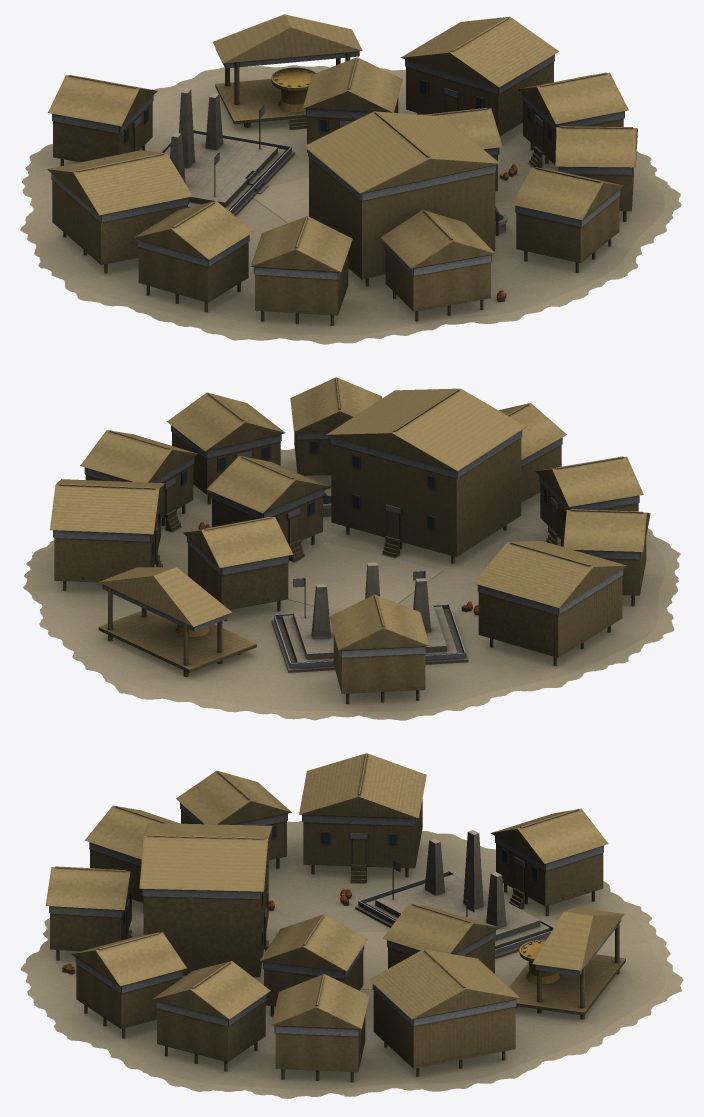
Rendered from bronze-town-medium-b-monsoon.glb.
The picture shows the model from 3 angles, top to bottom: view 1: azimuth 30°, elevation 25°; view 2: azimuth 150°, elevation 25°; view 3: azimuth 270°, elevation 25°; orthographic projection.
Visible parts, largest first — view 1: LOD0; view 2: LOD0; view 3: LOD0.
Part boxes in pixels (<box>): LOD0: <box>20,14,681,344</box>; LOD0: <box>23,377,680,720</box>; LOD0: <box>20,753,683,1098</box>.
Size of what is drawn, in the model's own units: 5.98 by 1.22 by 6.01.
3 materials, 3 textured.
